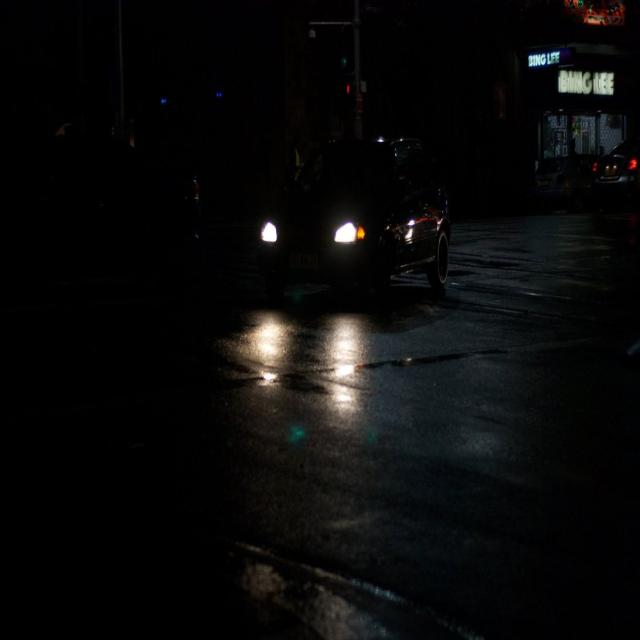Car: (251, 124, 456, 300)
